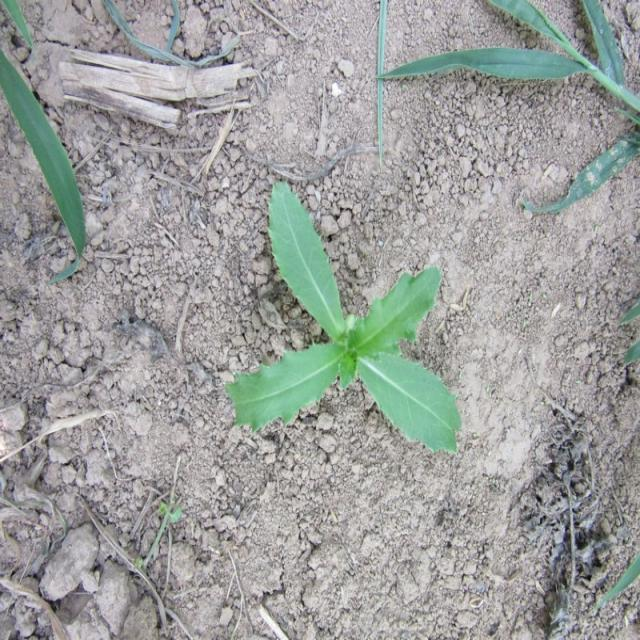field_thistle: (228, 164, 454, 470)
